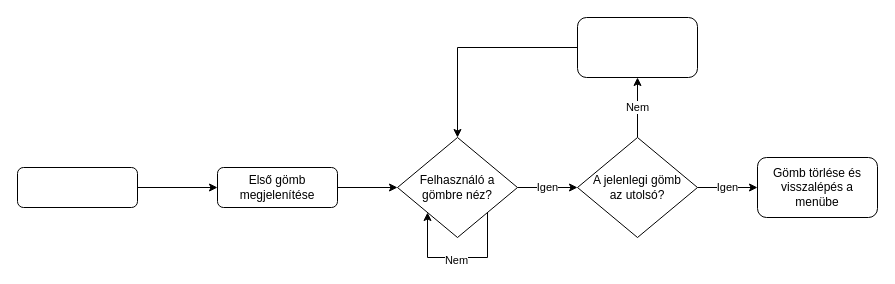
Some shapes in this 895 by 284 pixel diagram are drawn without their labels. The shapes that lost their labels are listed below. From the top down, each one's centre as x and y in pixels, then its label:
At pixel 637 47: "Jelenlegi gömb törlése és következő gömb megjelenítése".
At pixel 77 187: "Gyakorlat elindul".
